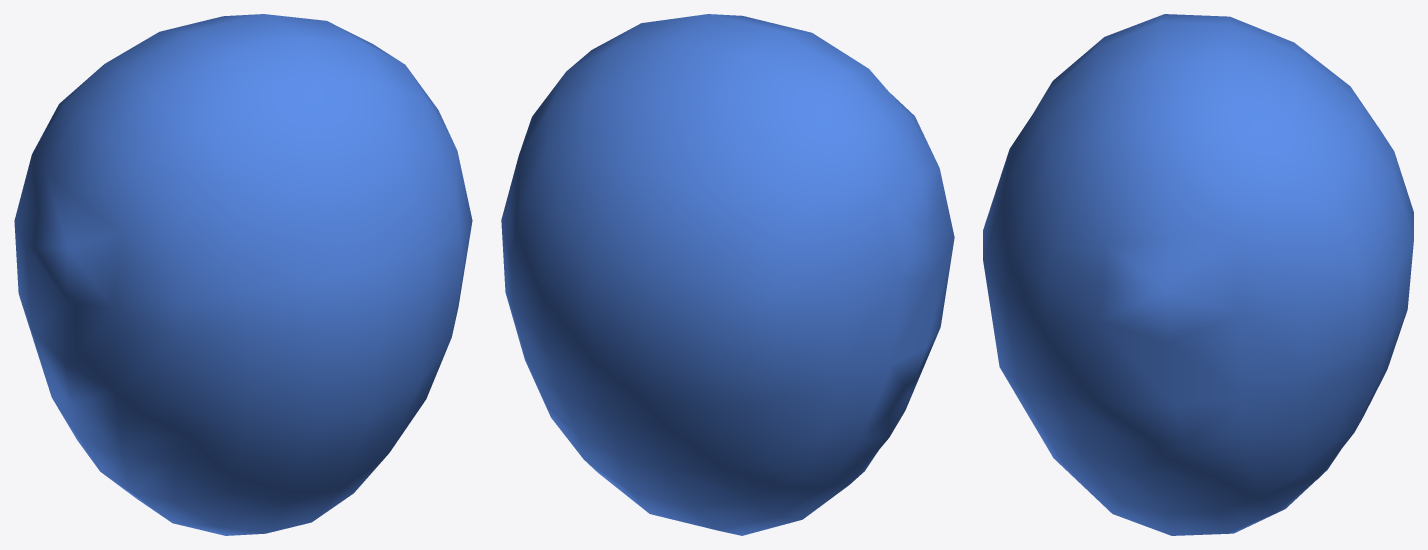
The model's file is corpo.fbx.
The picture shows the model from 3 angles, left to right: view 1: azimuth 30°, elevation 25°; view 2: azimuth 150°, elevation 25°; view 3: azimuth 270°, elevation 25°; orthographic projection.
Visible parts, largest first — view 1: Formiga.003; view 2: Formiga.003; view 3: Formiga.003.
Boxes of the visible parts, x1=… form: Formiga.003: x1=14, y1=14, x2=472, y2=535; Formiga.003: x1=501, y1=14, x2=954, y2=535; Formiga.003: x1=983, y1=14, x2=1413, y2=535.
Bounding box in the file's own units: 352 × 419 × 341.
